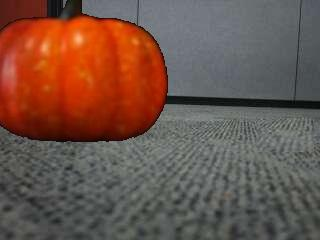Pumpkin: (0, 0, 172, 145)
